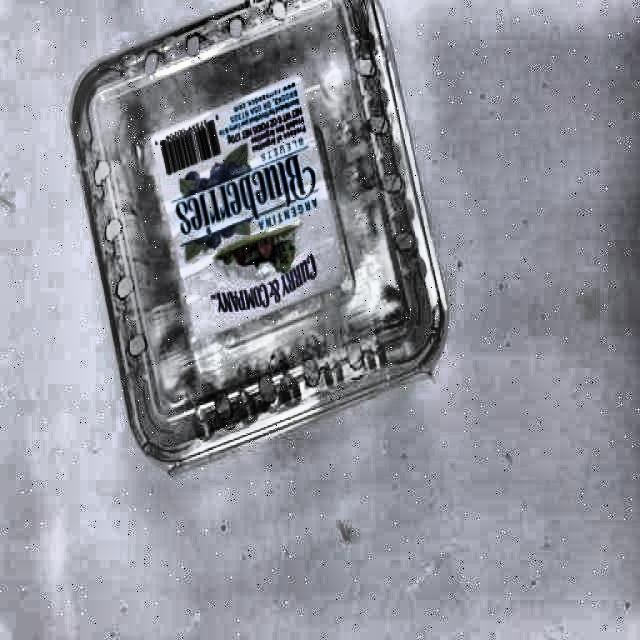plastic: (69, 0, 449, 474)
